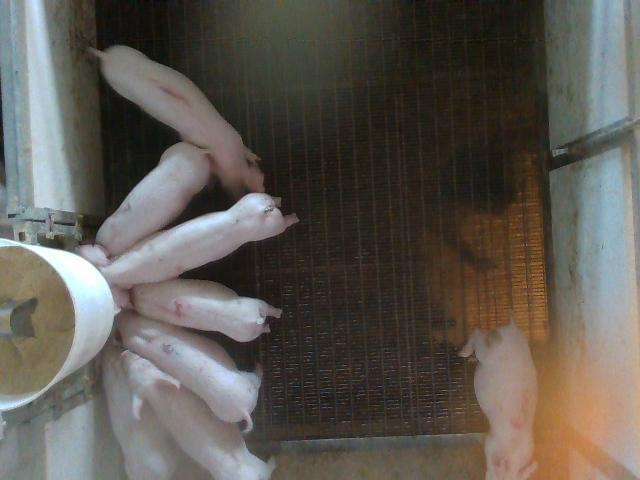pig-1: (92, 46, 264, 196)
pig-3: (461, 320, 538, 478)
pig-4: (130, 279, 282, 342)
